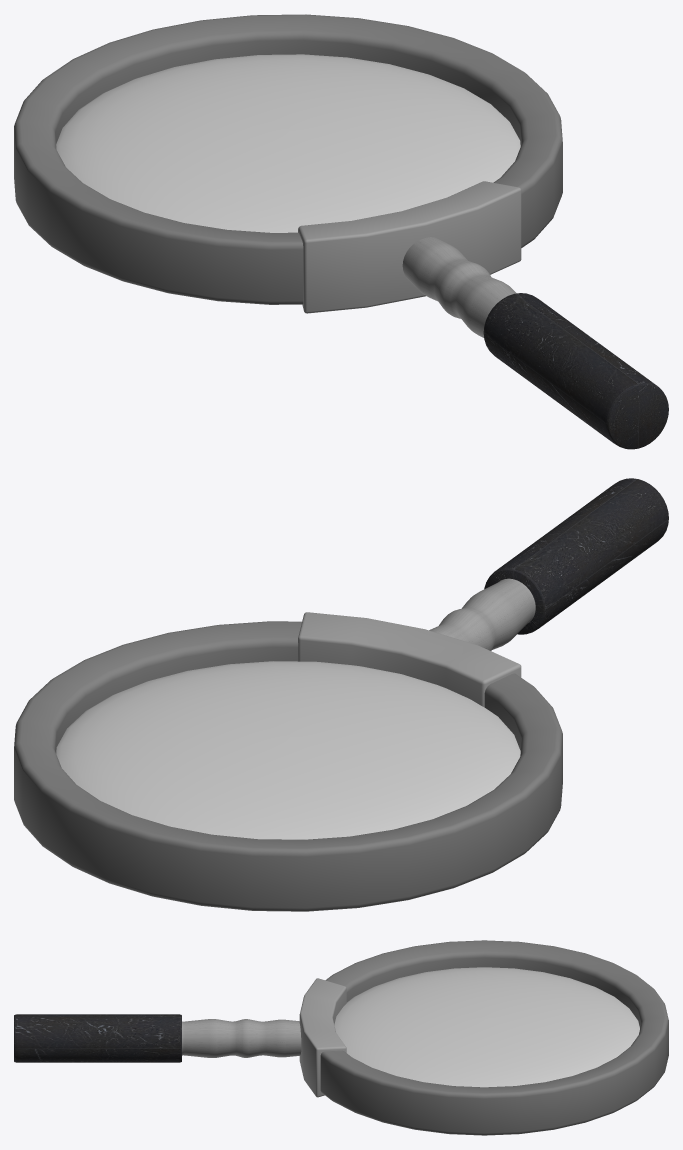
Rendered from 放大镜.obj.
The picture shows the model from 3 angles, top to bottom: view 1: azimuth 30°, elevation 25°; view 2: azimuth 150°, elevation 25°; view 3: azimuth 270°, elevation 25°; orthographic projection. The views are drawn at different scales.
Visible parts, largest first — view 1: 镜框, 镜片, 金属体, 镜片.001, 把手, 金属体.001; view 2: 镜框, 镜片, 镜片.001, 金属体, 把手, 金属体.001; view 3: 镜框, 镜片, 把手, 镜片.001, 金属体, 金属体.001.
Boxes of the visible parts, bbox=[...] form: 镜框: bbox=[14, 14, 562, 304]; 镜片: bbox=[56, 54, 520, 232]; 金属体: bbox=[298, 181, 521, 337]; 镜片.001: bbox=[96, 56, 516, 232]; 把手: bbox=[483, 293, 668, 449]; 金属体.001: bbox=[299, 181, 518, 325]; 镜框: bbox=[14, 621, 562, 911]; 镜片: bbox=[56, 661, 520, 839]; 镜片.001: bbox=[87, 661, 516, 830]; 金属体: bbox=[298, 578, 535, 707]; 把手: bbox=[484, 478, 668, 634]; 金属体.001: bbox=[300, 580, 533, 681]; 镜框: bbox=[320, 940, 668, 1135]; 镜片: bbox=[334, 967, 639, 1087]; 把手: bbox=[14, 1014, 181, 1062]; 镜片.001: bbox=[336, 968, 614, 1086]; 金属体: bbox=[182, 978, 346, 1096]; 金属体.001: bbox=[185, 978, 344, 1097].
Bounding box in the file's own units: 0.4 × 0.0607 × 0.7098.
Materials: 8 (6 with a texture image).
